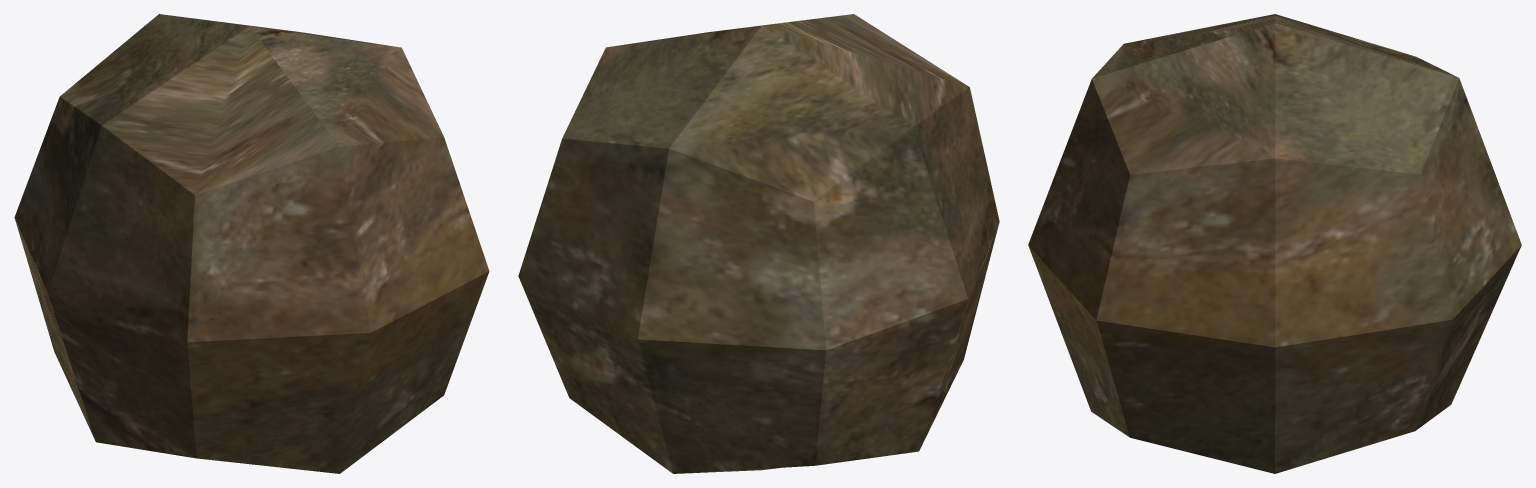
Rendered from rock1.fbx.
3 renders of one model, left to right at view 1: azimuth 30°, elevation 25°; view 2: azimuth 150°, elevation 25°; view 3: azimuth 270°, elevation 25°, orthographic. The views are drawn at different scales.
Parts seen in each view (by area): view 1: rock.001; view 2: rock.001; view 3: rock.001.
Part boxes in pixels (x1,y1,x2,y2): rock.001: (14, 14, 489, 473); rock.001: (518, 14, 999, 473); rock.001: (1028, 14, 1521, 473).
Size of the model in its own units: 0.8268 by 0.8416 by 0.8515.
